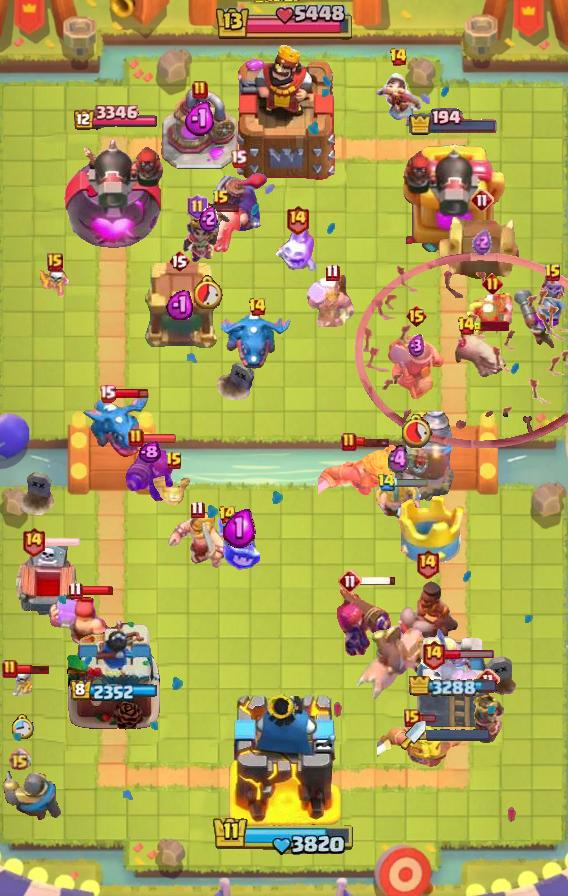bar: (444, 649, 495, 660), (114, 387, 149, 400), (44, 536, 81, 548), (355, 436, 391, 448), (360, 575, 397, 586), (15, 664, 51, 675), (141, 433, 177, 444), (394, 477, 429, 488), (205, 202, 240, 213), (80, 585, 114, 596), (473, 321, 509, 331), (418, 713, 437, 724)
bar-level: (421, 639, 446, 670), (415, 548, 440, 579), (21, 526, 46, 557), (285, 204, 310, 235), (476, 668, 500, 692), (338, 569, 362, 593), (470, 188, 494, 212), (405, 304, 428, 328), (187, 194, 208, 220), (8, 748, 31, 771), (168, 249, 190, 273), (482, 273, 503, 294), (218, 505, 237, 525), (457, 316, 476, 336), (248, 297, 267, 317), (389, 47, 408, 67), (377, 473, 396, 492), (165, 451, 183, 471), (544, 263, 562, 283), (212, 189, 230, 209), (99, 384, 116, 403), (230, 149, 247, 168), (2, 659, 18, 679), (341, 432, 357, 452), (128, 428, 144, 448), (192, 80, 208, 100), (404, 709, 420, 727), (47, 253, 63, 271), (68, 581, 83, 600), (190, 500, 205, 519), (325, 263, 340, 282)
barbarian-barrel: (437, 215, 527, 283)
bat-evolution: (419, 657, 479, 687)
cannoneer-tower: (61, 132, 168, 256), (399, 138, 507, 256)
clock: (399, 413, 433, 448), (194, 275, 223, 309), (11, 714, 34, 739)
dagger-duchess-tower: (414, 623, 492, 731)
dagger-duchess-tower-bar: (426, 729, 490, 741)
electro-dragon: (82, 390, 152, 458), (221, 309, 293, 371)
elite-barbarian: (164, 510, 230, 572), (374, 478, 422, 521)
elixir: (223, 507, 256, 548), (184, 101, 217, 137), (166, 288, 193, 320), (388, 444, 409, 476), (138, 441, 161, 464), (472, 229, 492, 255), (199, 205, 218, 232), (408, 334, 425, 358)
firecracker-evolution: (336, 584, 394, 658), (121, 434, 177, 506)
guard: (217, 514, 261, 574)
hog: (453, 331, 511, 381), (199, 200, 243, 256)
ice-spirit-evolution: (276, 224, 318, 274)
king-tower: (227, 688, 342, 826), (230, 43, 338, 181)
king-tower-bar: (212, 815, 356, 857), (213, 5, 355, 43)
knight: (0, 771, 62, 821)
lava-pup: (153, 473, 195, 507)
little-prince: (181, 206, 236, 268), (470, 693, 506, 745)
lumberjack: (49, 594, 119, 650), (305, 275, 359, 329)
miner: (385, 332, 447, 406)
musketeer: (512, 287, 568, 351)
princess: (372, 70, 424, 128)
queen-tower: (65, 617, 163, 731)
ram-rider: (394, 580, 460, 656)
skeleton: (40, 265, 70, 297), (8, 668, 36, 698)
skeleton-evolution: (536, 273, 568, 313)
spear-goblin: (467, 293, 517, 341)
tower-bar: (408, 108, 499, 136), (71, 105, 157, 132), (70, 680, 158, 703), (409, 676, 497, 699)
